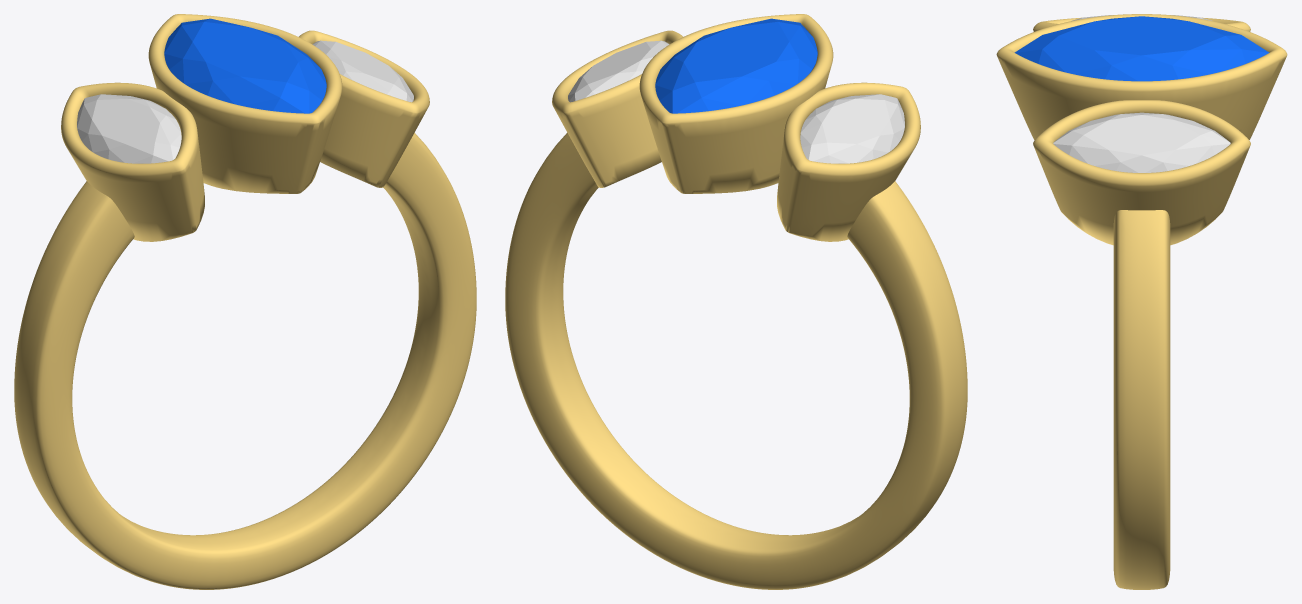
The model's file is bluesapphire-marquise-yellowgold-bezelset-straightband-3stone.glb.
The picture shows the model from 3 angles, left to right: view 1: azimuth 30°, elevation 25°; view 2: azimuth 150°, elevation 25°; view 3: azimuth 270°, elevation 25°; orthographic projection.
Parts seen in each view (by area): view 1: metal.002, stone.003, side.007, side.006; view 2: metal.002, stone.003, side.007, side.006; view 3: metal.002, stone.003, side.006.
Part boxes in pixels (bbox=[...]): metal.002: bbox=[14, 14, 476, 589]; stone.003: bbox=[164, 18, 326, 113]; side.007: bbox=[77, 94, 181, 163]; side.006: bbox=[312, 40, 413, 102]; metal.002: bbox=[505, 14, 967, 589]; stone.003: bbox=[655, 18, 817, 113]; side.007: bbox=[800, 94, 904, 163]; side.006: bbox=[568, 40, 669, 102]; metal.002: bbox=[996, 14, 1287, 589]; stone.003: bbox=[1014, 16, 1269, 81]; side.006: bbox=[1053, 112, 1230, 172].
Bounding box in the file's own units: 20.1 × 22.73 × 11.31.
